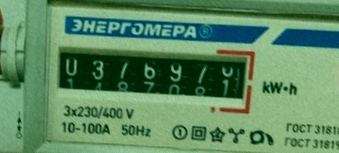0: (61, 53, 76, 76)
1: (218, 77, 230, 97)
3: (89, 58, 104, 80)
6: (140, 56, 156, 80)
7: (114, 56, 130, 81), (192, 61, 208, 84)
9: (166, 59, 181, 81)
screen: (46, 33, 258, 116)
